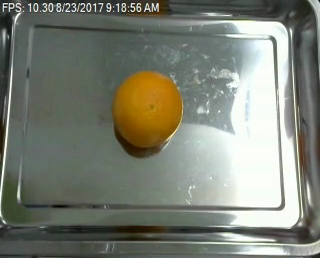Orange: (112, 70, 183, 147)
